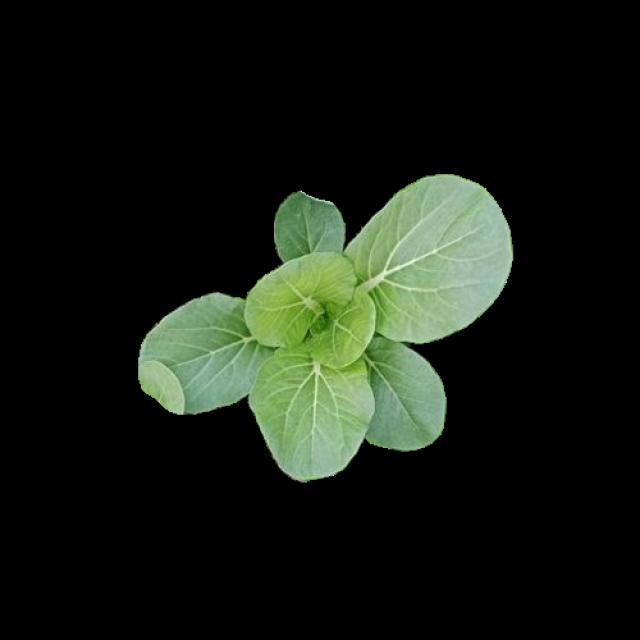healthy: (137, 171, 511, 475)
not-mature: (140, 174, 514, 478)
